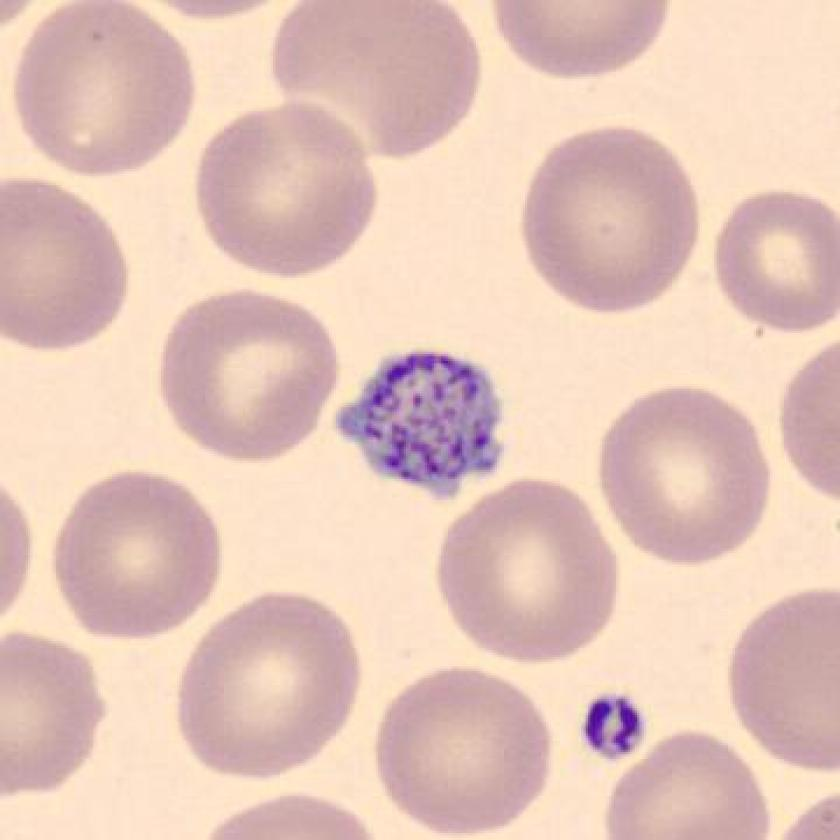platelets: (323, 341, 519, 508), (571, 682, 655, 770)
